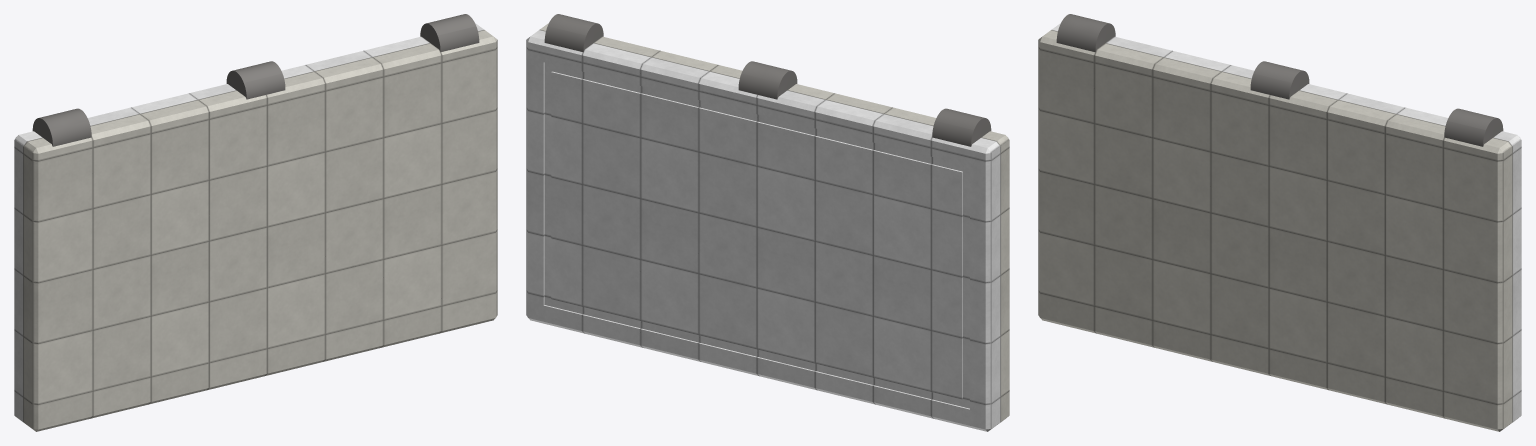
File: ax_aero_26_csbf_body_flap_mk2.glb
3 renders of one model, left to right at view 1: azimuth 30°, elevation 25°; view 2: azimuth 150°, elevation 25°; view 3: azimuth 330°, elevation 25°, orthographic.
Visible parts, largest first — view 1: flap_top, flap_underside, hinge_fittings; view 2: flap_underside, flap_top, hinge_fittings; view 3: flap_top, flap_underside, hinge_fittings.
Boxes of the visible parts, <box> form: flap_top: <box>23,30,497,431</box>; flap_underside: <box>14,23,484,422</box>; hinge_fittings: <box>32,14,479,146</box>; flap_underside: <box>526,30,1000,431</box>; flap_top: <box>539,23,1009,422</box>; hinge_fittings: <box>544,14,991,146</box>; flap_top: <box>1038,30,1512,431</box>; flap_underside: <box>1051,23,1521,422</box>; hinge_fittings: <box>1056,14,1503,146</box>.
Bounding box in the file's own units: 1.2 × 0.745 × 0.1.
3 materials, 3 textured.
